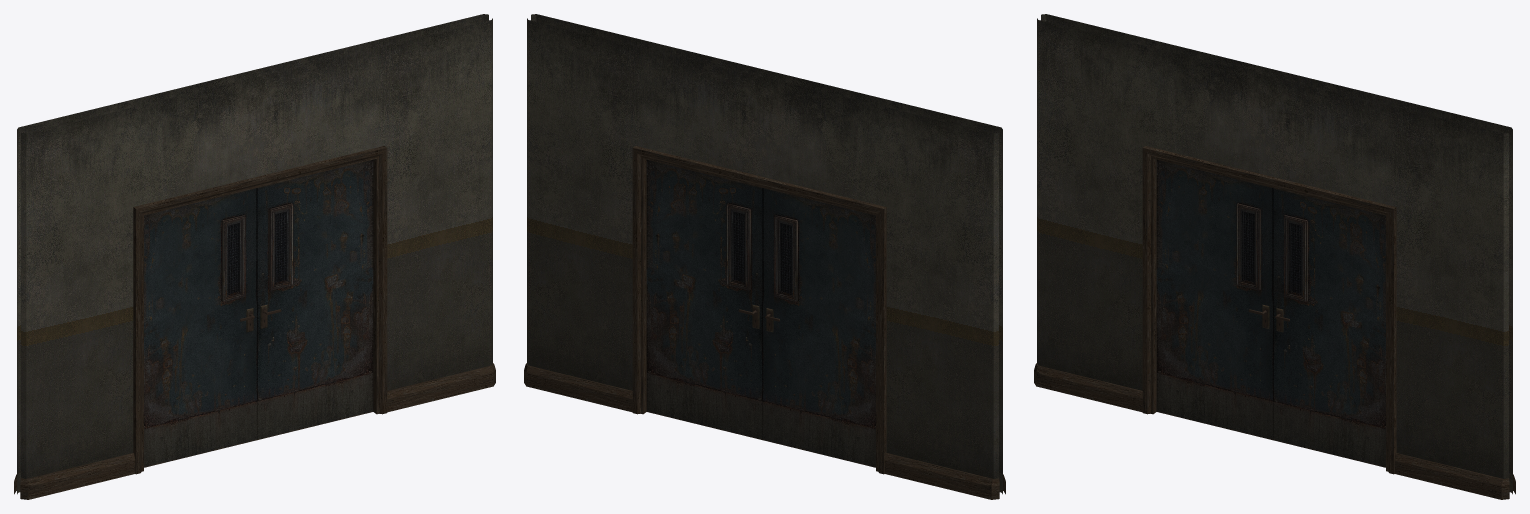
The model's file is doorway_3_wide.glb.
3 renders of one model, left to right at view 1: azimuth 30°, elevation 25°; view 2: azimuth 150°, elevation 25°; view 3: azimuth 330°, elevation 25°, orthographic.
Parts seen in each view (by area): view 1: doorway_3_wide, double_door_3_piece_2, double_door_3_piece_1; view 2: doorway_3_wide, double_door_3_piece_2, double_door_3_piece_1; view 3: doorway_3_wide, double_door_3_piece_1, double_door_3_piece_2.
Part boxes in pixels (bbox=[...]): doorway_3_wide: bbox=[14, 14, 495, 499]; double_door_3_piece_2: bbox=[257, 159, 373, 440]; double_door_3_piece_1: bbox=[144, 188, 256, 467]; doorway_3_wide: bbox=[524, 14, 1005, 499]; double_door_3_piece_2: bbox=[646, 159, 762, 440]; double_door_3_piece_1: bbox=[763, 188, 875, 467]; doorway_3_wide: bbox=[1034, 14, 1515, 499]; double_door_3_piece_1: bbox=[1156, 159, 1272, 440]; double_door_3_piece_2: bbox=[1273, 188, 1385, 467].
Bounding box in the file's own units: 4.09 × 3 × 0.2.
Materials: 5 (5 with a texture image).
